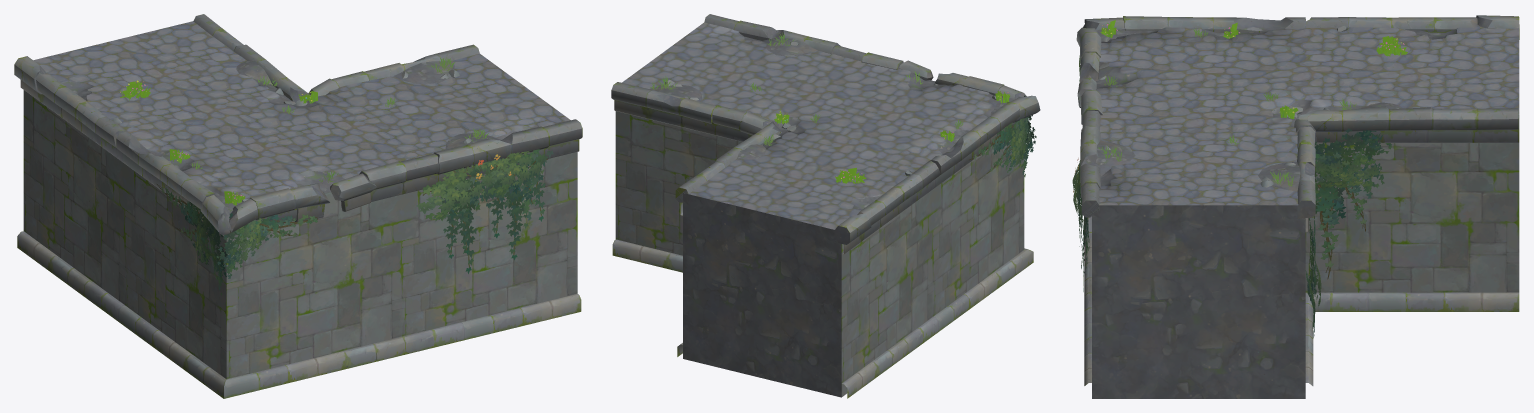
Rendered from Area_MdBuild_SdPlatform03_Group.fbx.
The picture shows the model from 3 angles, left to right: view 1: azimuth 30°, elevation 25°; view 2: azimuth 150°, elevation 25°; view 3: azimuth 270°, elevation 25°; orthographic projection. The views are drawn at different scales.
Parts seen in each view (by area): view 1: Area_MdBuild_SdPlatform03_Lod0, Stages_LYLvy08_Vo (1), Stages_LYLvy04_Vo (1), Stages_LYLvy10_Vo (1); view 2: Area_MdBuild_SdPlatform03_Lod0, Stages_LYLvy10_Vo (1); view 3: Area_MdBuild_SdPlatform03_Lod0, Stages_LYLvy10_Vo (3), Stages_LYLvy10_Vo (2), Stages_LYLvy08_Vo (1), Stages_SGrass13_Vo.
Boxes of the visible parts, x1=… form: Area_MdBuild_SdPlatform03_Lod0: x1=14, y1=14, x2=582, y2=398; Stages_LYLvy08_Vo (1): x1=416, y1=143, x2=553, y2=273; Stages_LYLvy04_Vo (1): x1=216, y1=207, x2=317, y2=278; Stages_LYLvy10_Vo (1): x1=157, y1=184, x2=227, y2=296; Area_MdBuild_SdPlatform03_Lod0: x1=611, y1=14, x2=1040, y2=398; Stages_LYLvy10_Vo (1): x1=969, y1=117, x2=1033, y2=176; Area_MdBuild_SdPlatform03_Lod0: x1=1076, y1=15, x2=1519, y2=398; Stages_LYLvy10_Vo (3): x1=1315, y1=128, x2=1391, y2=279; Stages_LYLvy10_Vo (2): x1=1305, y1=216, x2=1321, y2=337; Stages_LYLvy08_Vo (1): x1=1072, y1=158, x2=1089, y2=291; Stages_SGrass13_Vo: x1=1376, y1=36, x2=1407, y2=56.
Size of the model in its own units: 20.9 by 11.48 by 21.08.
Materials: 8 (8 with a texture image).
